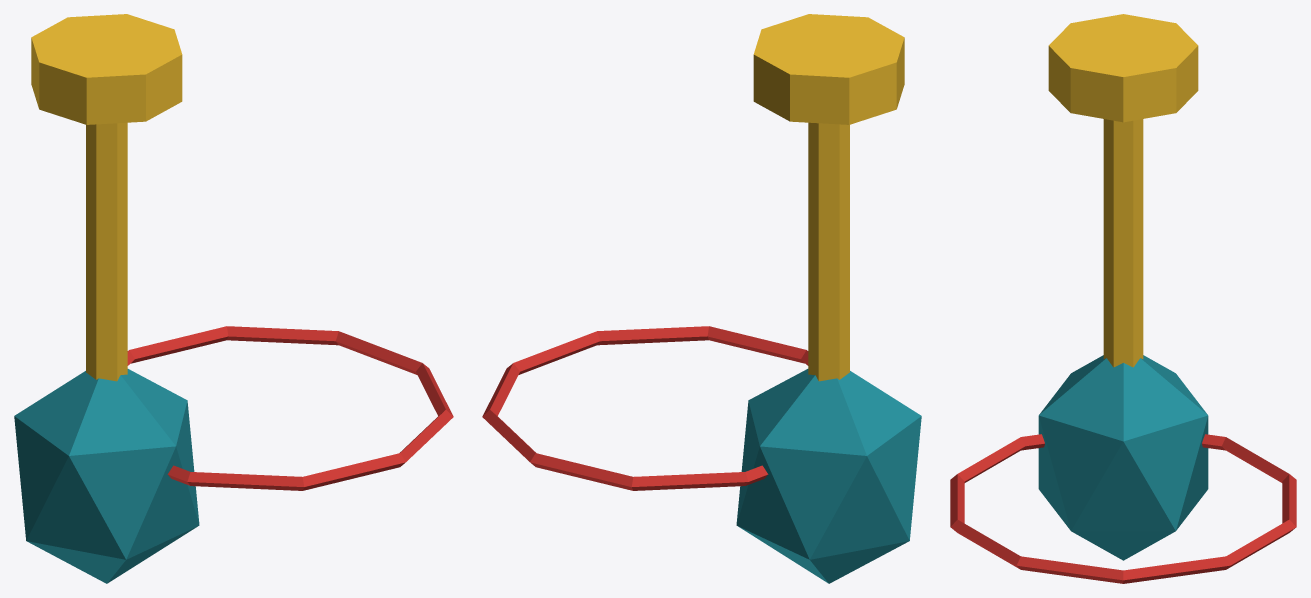
File: hookah.fbx
The picture shows the model from 3 angles, left to right: view 1: azimuth 30°, elevation 25°; view 2: azimuth 150°, elevation 25°; view 3: azimuth 270°, elevation 25°; orthographic projection. The views are drawn at different scales.
Visible parts, largest first — view 1: hookah; view 2: hookah; view 3: hookah.
Boxes of the visible parts, left/top/right/bottom form: hookah: left=14, top=14, right=453, bottom=583; hookah: left=482, top=14, right=921, bottom=583; hookah: left=950, top=14, right=1296, bottom=583.
Size of the model in its own units: 0.8939 by 1.14 by 0.6943.
